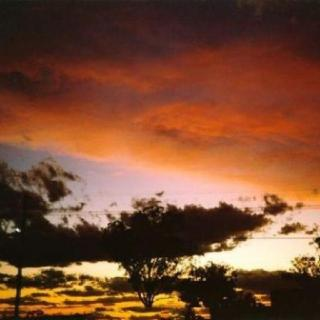Cirrostratus: (0, 0, 320, 201)
